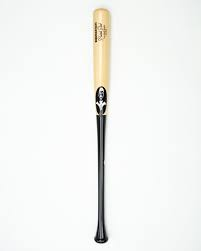bat: (92, 7, 111, 244)
